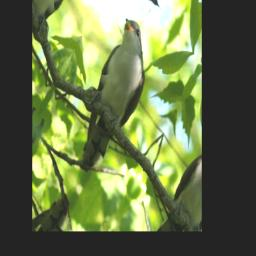Cuckoo: (60, 11, 164, 185)
